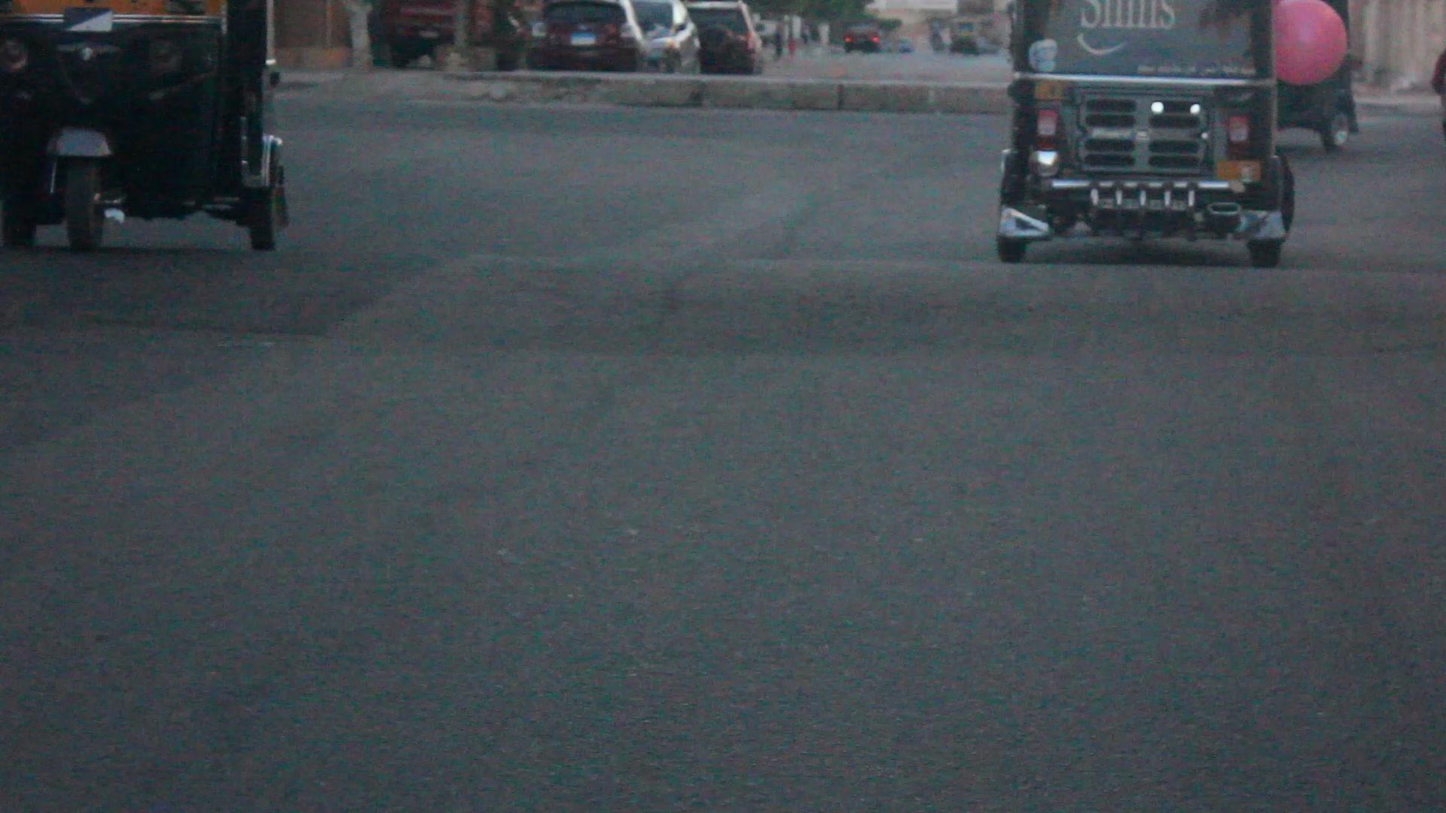Bump: (6, 241, 1446, 365)
